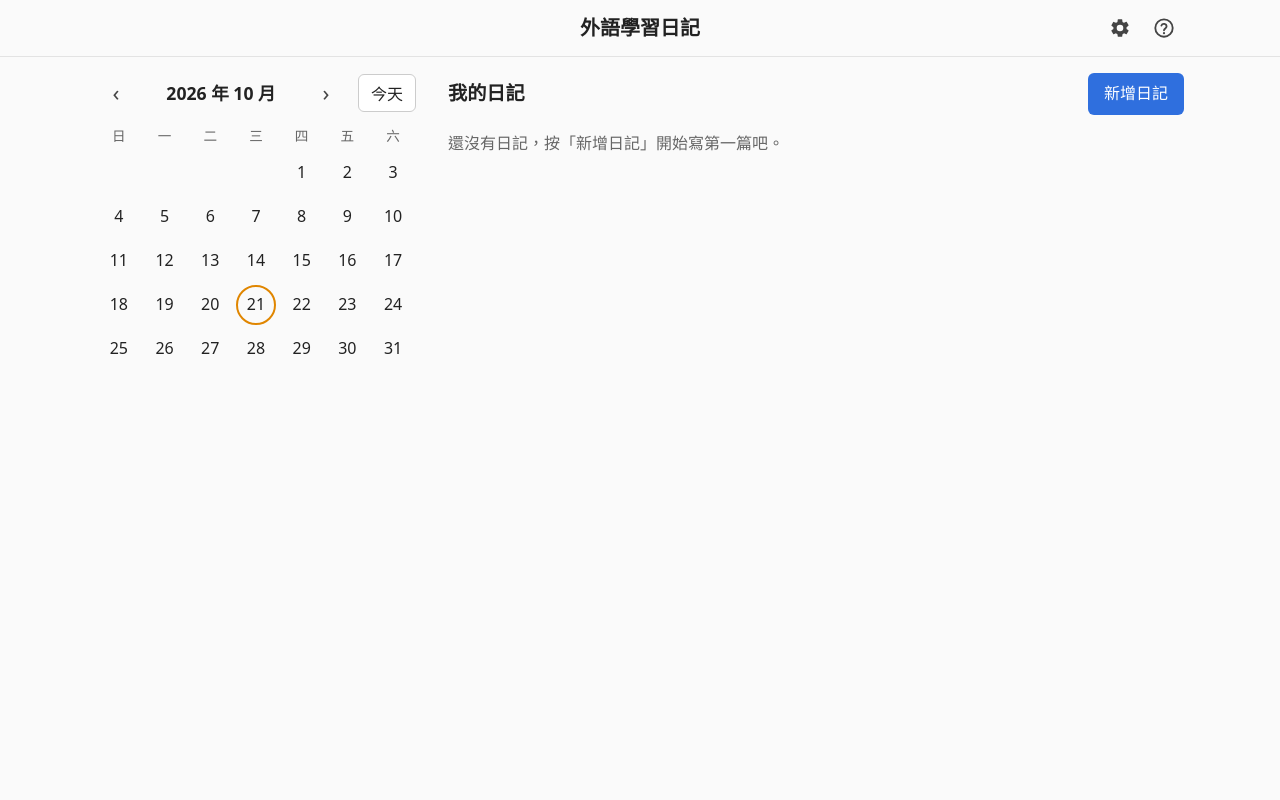
App › opens the welcome page from the top bar
Expected: the text "還沒有日記，按「新增日記」開始寫第一篇吧。" is shown, [448,132,784,154]
Click the link named "使用說明" at (1164,28), box [1153,17,1175,39]
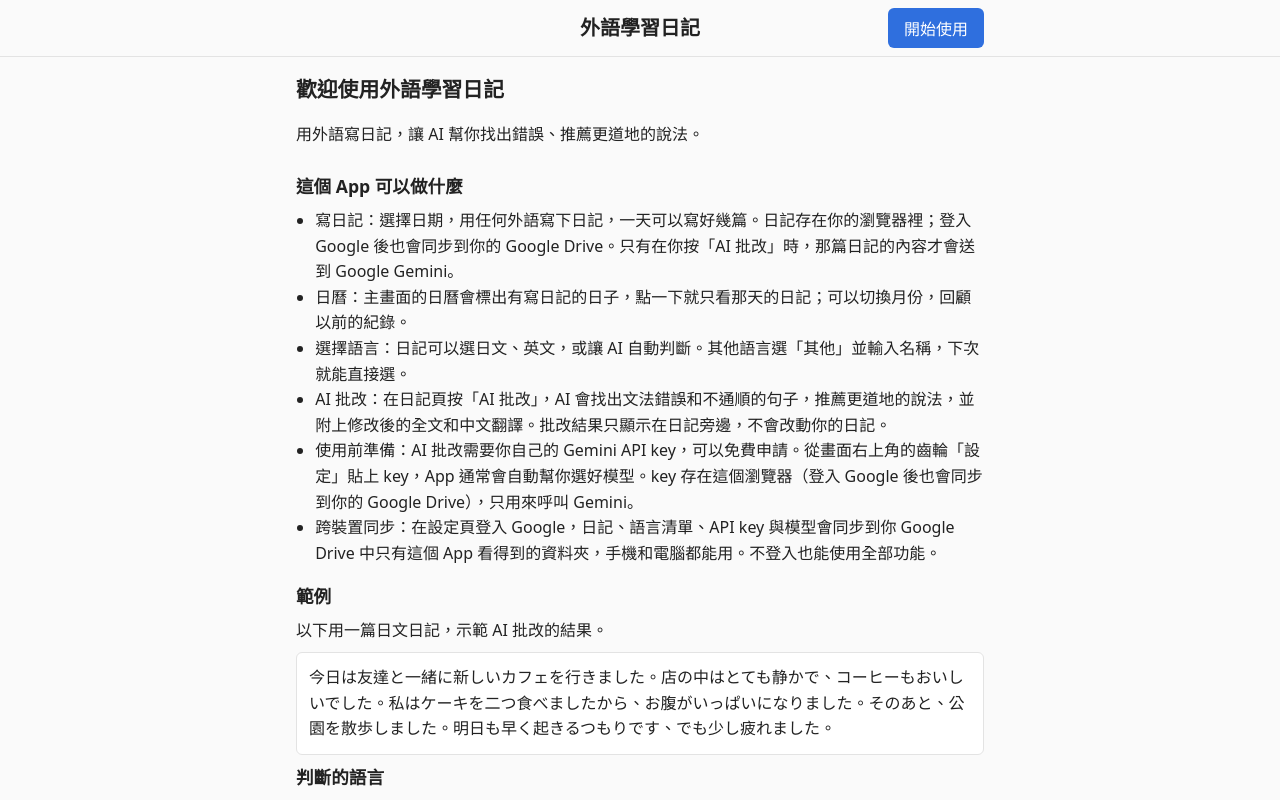
Now the heading "歡迎使用外語學習日記" is shown, box [296,75,504,103]
Now the button "開始使用" is shown, box [888,8,984,48]
